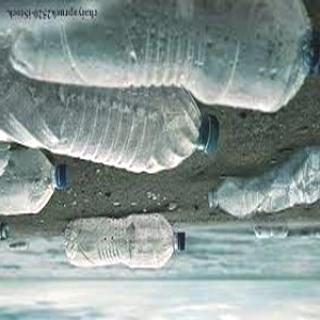Plastic: (0, 0, 320, 114), (0, 84, 221, 177), (200, 147, 320, 215), (63, 210, 186, 268), (0, 152, 68, 217), (251, 224, 290, 242)
